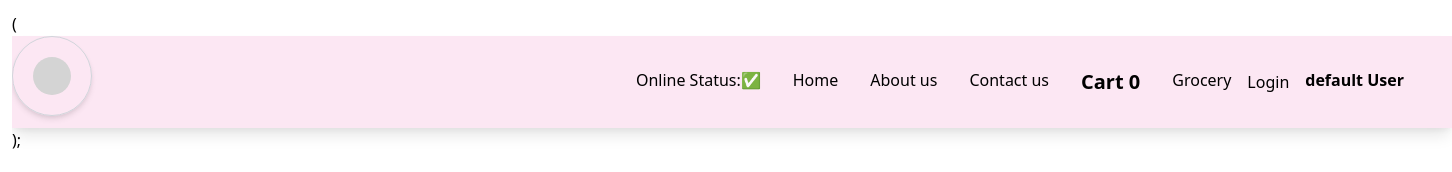
Test: Should change login button to logout
The width and height of the screenshot is (1452, 172).
Click the button "Login" at (1268, 82), box [1247,68,1289,96]
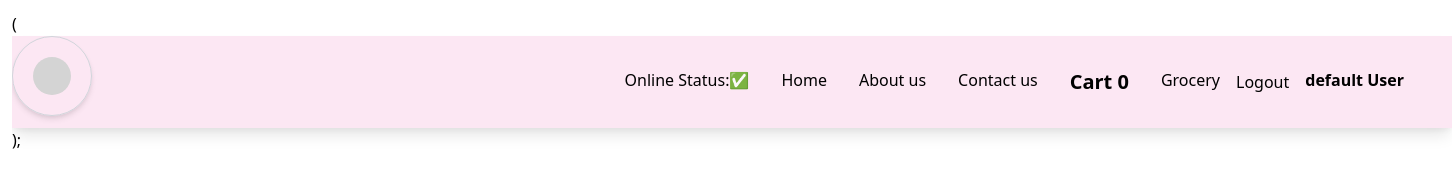
Result: the button "Logout" is shown at [1236,68,1289,96]
